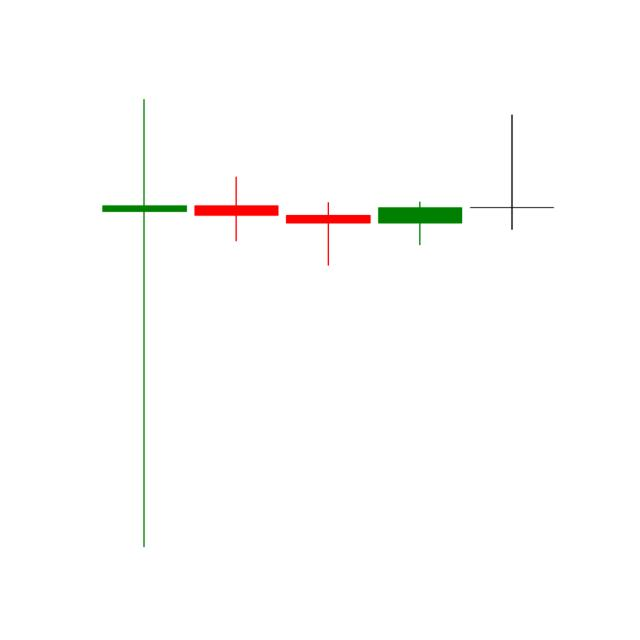Gravenstone Doji: (470, 108, 556, 236)
Hammer: (373, 200, 467, 247)
Long-Legged Doji: (99, 97, 190, 555)
Standard Doji: (196, 173, 282, 241)
